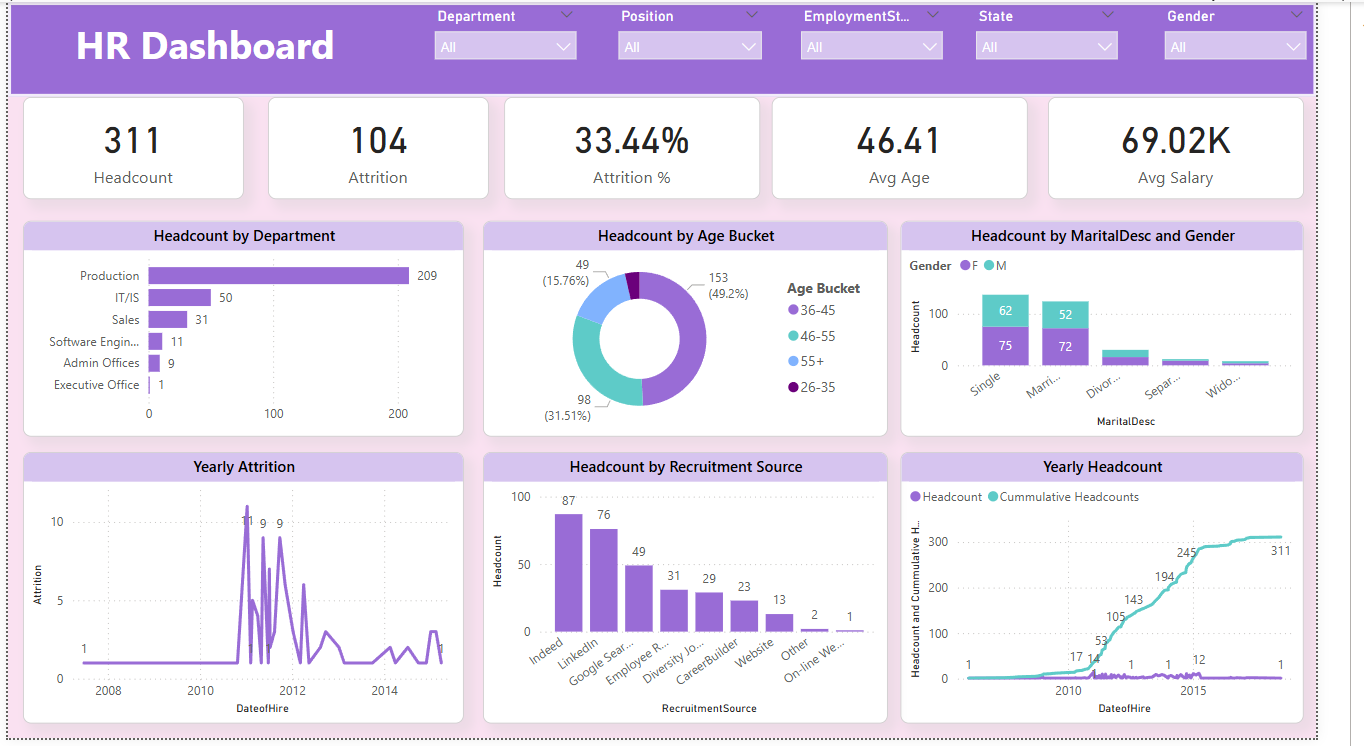

What the dashboard file says about the page in this screenshot:
{"tool":"powerbi","page":{"name":"Page 1","canvas":[1280,720],"ordinal":0},"visuals":[{"type":"shape","box":[0,0,1280,92.9],"z":0},{"type":"card","fields":{"Values":["Measure.Headcount"]},"box":[14.3,92.9,215.7,100],"z":1000},{"type":"card","fields":{"Values":["Measure.Attrition"]},"box":[254.3,92.9,215.7,100],"z":2000},{"type":"card","fields":{"Values":["Measure.Attrition %"]},"box":[485.7,92.9,250,100],"z":3000},{"type":"card","fields":{"Values":["Measure.Avg Salary"]},"box":[1017.1,92.9,250,100],"z":4000},{"type":"card","fields":{"Values":["Measure.Avg Age"]},"box":[747.1,92.9,250,100],"z":5000},{"type":"clusteredBarChart","fields":{"Y":["Measure.Headcount"],"Category":["HRDataset_v14.Department"]},"box":[14.3,214.3,431.4,211.4],"z":6000},{"type":"donutChart","fields":{"Category":["HRDataset_v14.Age Bucket"],"Y":["Measure.Headcount"]},"box":[464.3,214.3,395.7,211.4],"z":7000},{"type":"columnChart","fields":{"Category":["HRDataset_v14.MaritalDesc"],"Y":["Measure.Headcount"],"Series":["HRDataset_v14.Gender"]},"box":[872.9,214.3,394.3,211.4],"z":8000},{"type":"lineChart","title":" Yearly Headcount ","fields":{"Category":["HRDataset_v14.DateofHire"],"Y":["Measure.Headcount","Measure.Cummulative Headcounts"]},"box":[872.9,440,394.3,265.7],"z":9000},{"type":"lineChart","title":"Yearly Attrition ","fields":{"Y":["Measure.Attrition"],"Category":["HRDataset_v14.DateofHire"]},"box":[14.3,440,431.4,265.7],"z":10000},{"type":"columnChart","title":"Headcount by Recruitment Source","fields":{"Y":["Measure.Headcount"],"Category":["HRDataset_v14.RecruitmentSource"]},"box":[464.3,440,395.7,265.7],"z":11000},{"type":"slicer","fields":{"Values":["HRDataset_v14.Department"]},"box":[407.1,0,158.6,71.4],"z":12000},{"type":"slicer","fields":{"Values":["HRDataset_v14.Position"]},"box":[587.1,0,160,71.4],"z":13000},{"type":"slicer","fields":{"Values":["HRDataset_v14.EmploymentStatus"]},"box":[765.7,0,158.6,71.4],"z":14000},{"type":"slicer","fields":{"Values":["HRDataset_v14.State"]},"box":[937.1,0,158.6,71.4],"z":15000},{"type":"slicer","fields":{"Values":["HRDataset_v14.Gender"]},"box":[1121.4,0,158.6,71.4],"z":16000},{"type":"textbox","box":[61.4,11.4,335.7,60],"z":17000}]}

Visuals, with their boxes in screenshot pixels (x1, y1, x2, y2), scaled from the page's 1280x720 canvas onto the 1364x746 screenshot:
shape: (left=0, top=0, right=1363, bottom=96)
card - Measure.Headcount: (left=15, top=96, right=245, bottom=200)
card - Measure.Attrition: (left=271, top=96, right=501, bottom=200)
card - Measure.Attrition %: (left=518, top=96, right=784, bottom=200)
card - Measure.Avg Salary: (left=1084, top=96, right=1350, bottom=200)
card - Measure.Avg Age: (left=796, top=96, right=1063, bottom=200)
clusteredBarChart - Measure.Headcount x HRDataset_v14.Department: (left=15, top=222, right=475, bottom=441)
donutChart - HRDataset_v14.Age Bucket x Measure.Headcount: (left=495, top=222, right=916, bottom=441)
columnChart - HRDataset_v14.MaritalDesc x Measure.Headcount: (left=930, top=222, right=1350, bottom=441)
" Yearly Headcount " lineChart: (left=930, top=456, right=1350, bottom=731)
"Yearly Attrition " lineChart: (left=15, top=456, right=475, bottom=731)
"Headcount by Recruitment Source" columnChart: (left=495, top=456, right=916, bottom=731)
slicer - HRDataset_v14.Department: (left=434, top=0, right=603, bottom=74)
slicer - HRDataset_v14.Position: (left=626, top=0, right=796, bottom=74)
slicer - HRDataset_v14.EmploymentStatus: (left=816, top=0, right=985, bottom=74)
slicer - HRDataset_v14.State: (left=999, top=0, right=1168, bottom=74)
slicer - HRDataset_v14.Gender: (left=1195, top=0, right=1363, bottom=74)
textbox: (left=65, top=12, right=423, bottom=74)
